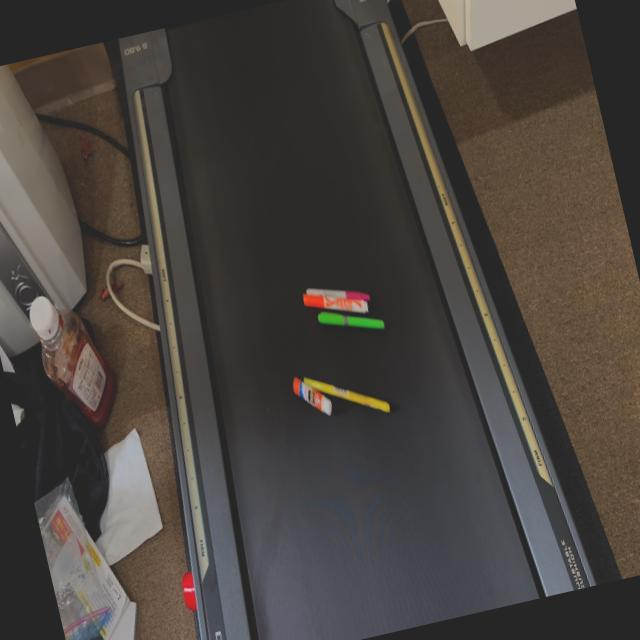Trash: (289, 358, 392, 436), (300, 271, 388, 348)
